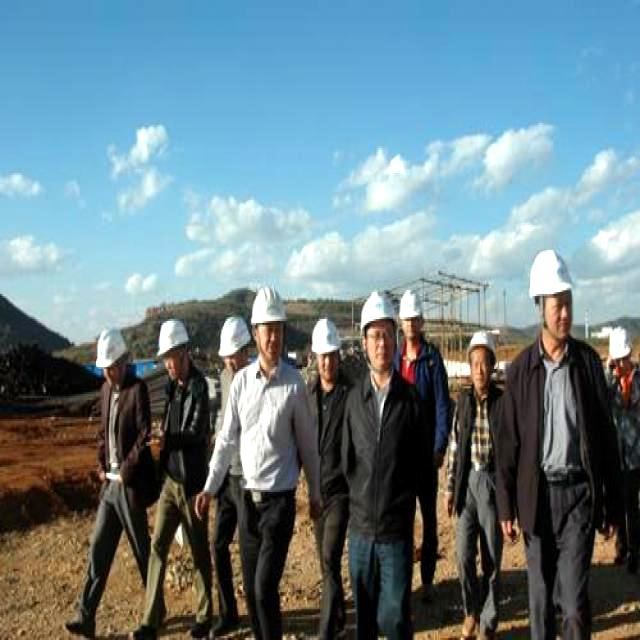hard_hat: (530, 250, 571, 296), (97, 329, 130, 371), (361, 291, 396, 329), (218, 317, 250, 357), (252, 288, 286, 325), (157, 319, 190, 357), (311, 319, 340, 354), (609, 327, 631, 359), (400, 290, 422, 319), (469, 330, 495, 348)
person: (499, 251, 620, 639), (195, 286, 306, 638), (60, 331, 156, 639), (342, 294, 419, 639), (135, 321, 211, 639), (396, 290, 452, 604), (448, 332, 502, 638), (207, 318, 251, 639), (308, 319, 351, 638), (605, 327, 639, 572)
